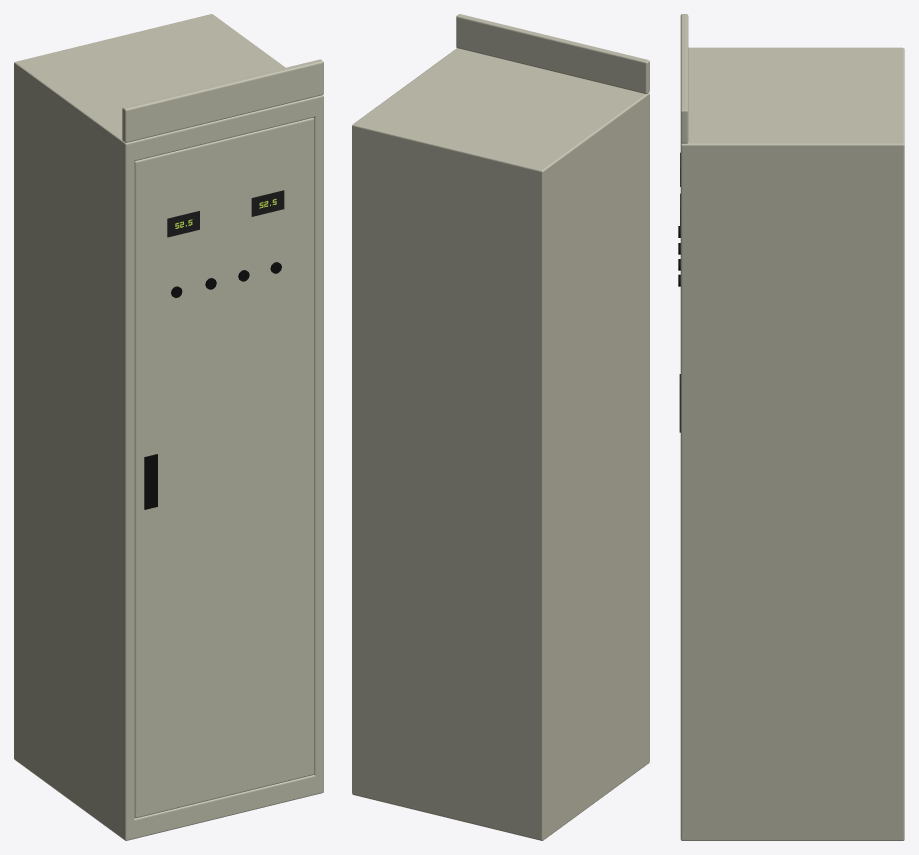
The model's file is ZLPDP.FBX.
3 views of the same model, side by side, from view 1: azimuth 30°, elevation 25°; view 2: azimuth 150°, elevation 25°; view 3: azimuth 270°, elevation 25° (orthographic). The views are drawn at different scales.
Parts seen in each view (by area): view 1: 配电屏0.6*0.6*2.14; view 2: 配电屏0.6*0.6*2.14; view 3: 配电屏0.6*0.6*2.14.
Boxes of the visible parts, x1,y1,x2,y2 form: 配电屏0.6*0.6*2.14: (14,14,323,840); 配电屏0.6*0.6*2.14: (352,14,649,840); 配电屏0.6*0.6*2.14: (678,14,904,840).
Bounding box in the file's own units: 615 × 2161 × 607.
Materials: 3 (1 with a texture image).
